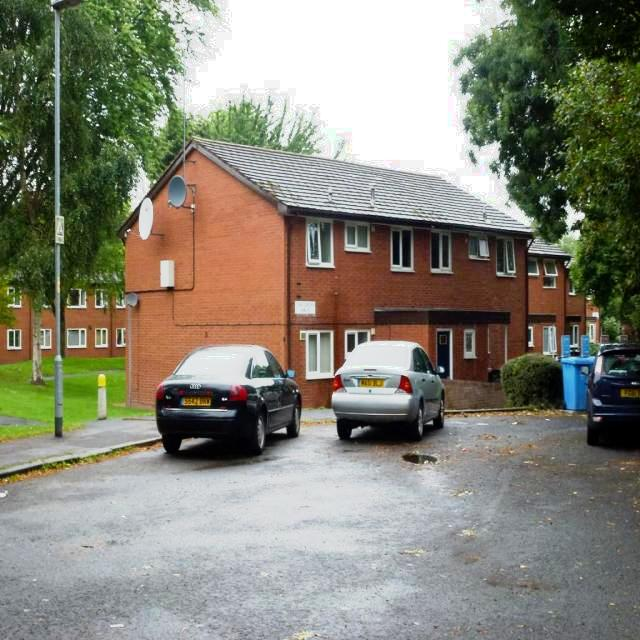license_plate: (182, 398, 214, 407)
